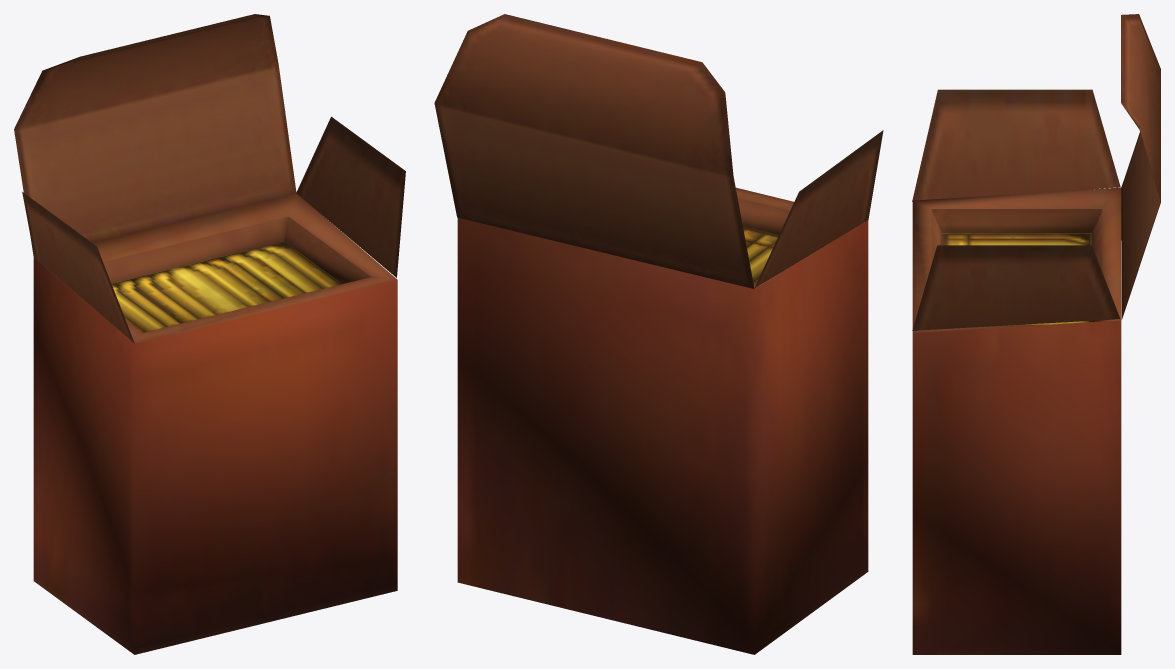
File: Ammo Box.fbx
The picture shows the model from 3 angles, left to right: view 1: azimuth 30°, elevation 25°; view 2: azimuth 150°, elevation 25°; view 3: azimuth 270°, elevation 25°; orthographic projection. The views are drawn at different scales.
Visible parts, largest first — view 1: Ammo_Large.001, Ammo_Large.002; view 2: Ammo_Large.001, Ammo_Large.002; view 3: Ammo_Large.001, Ammo_Large.002.
Part boxes in pixels (x1,y1,x2,y2): Ammo_Large.001: (14,14,405,654); Ammo_Large.002: (111,241,342,332); Ammo_Large.001: (434,14,883,654); Ammo_Large.002: (743,226,778,284); Ammo_Large.001: (912,14,1160,654); Ammo_Large.002: (942,233,1091,324).
Size of the model in its own units: 35.87 by 56.99 by 24.22.
